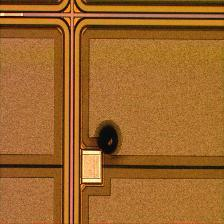PARTICLE: (89, 119, 129, 159)
